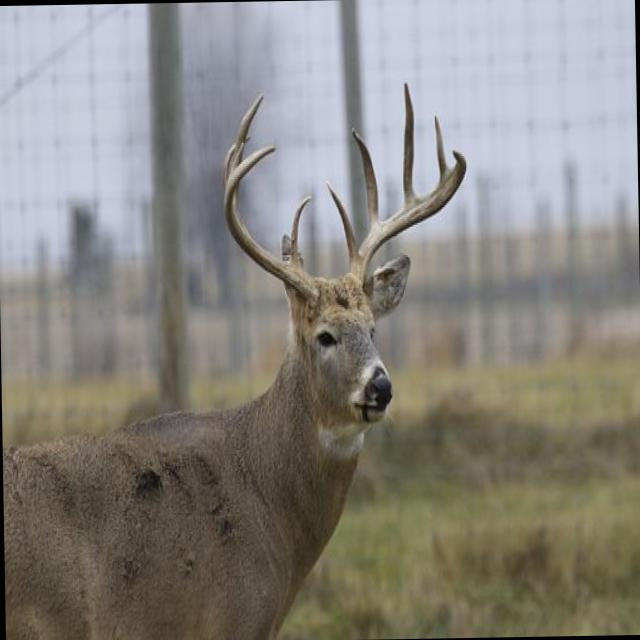L-F: (350, 148, 467, 278)
L-G1: (324, 178, 358, 265)
L-G2: (351, 125, 379, 230)
L-G3: (402, 81, 415, 203)
L-G4: (433, 113, 448, 180)
R-F: (223, 145, 316, 304)
R-G1: (290, 194, 312, 260)
